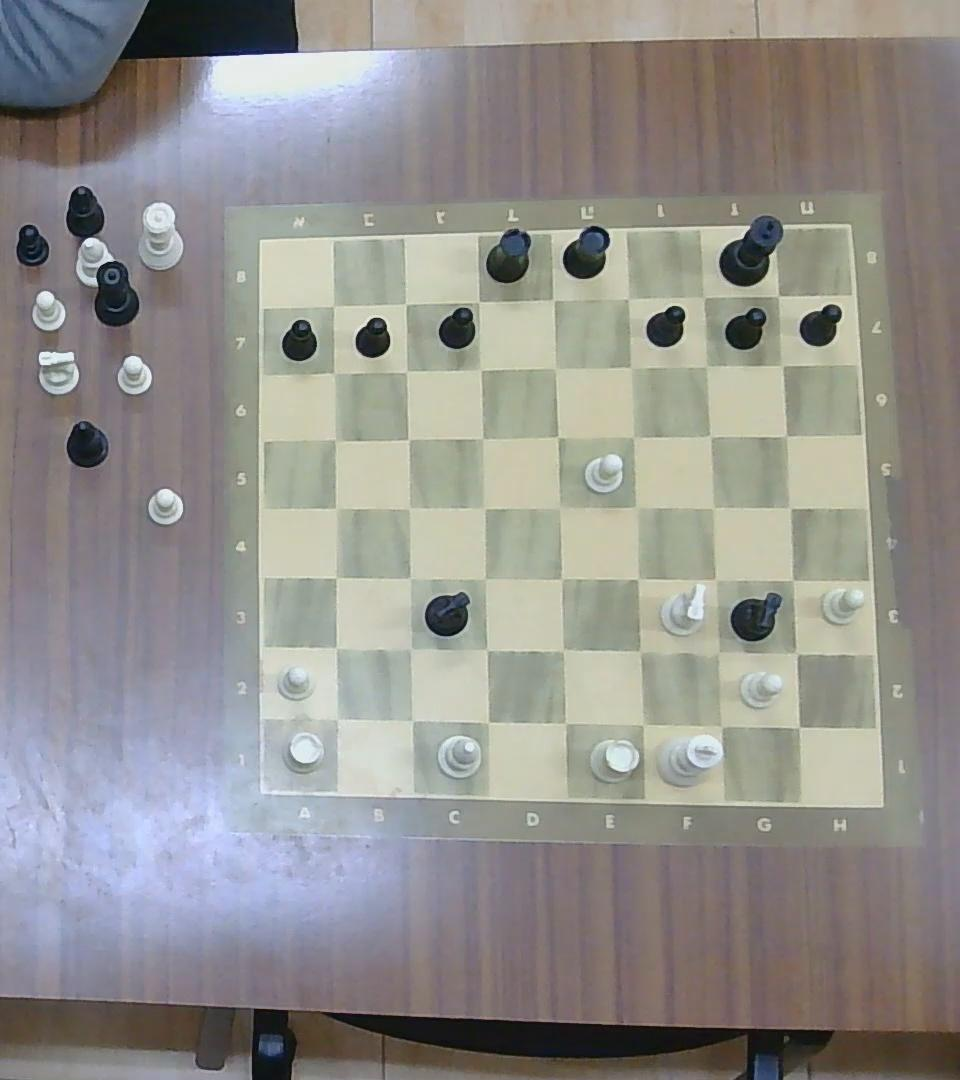xcorner: (702, 707, 737, 740), (701, 636, 734, 669), (781, 711, 815, 743), (626, 707, 658, 740), (548, 705, 579, 739), (624, 635, 656, 667), (547, 633, 578, 665), (471, 704, 502, 736), (780, 637, 812, 668), (320, 701, 351, 732), (622, 563, 652, 594), (470, 634, 501, 664), (395, 705, 425, 735), (394, 634, 424, 664), (698, 491, 728, 521), (548, 563, 577, 594), (700, 564, 730, 593), (321, 562, 350, 591), (622, 491, 651, 520), (321, 633, 350, 662), (545, 493, 573, 522), (470, 564, 499, 592), (467, 422, 495, 451), (777, 566, 806, 594), (543, 421, 572, 449), (619, 421, 648, 449), (616, 352, 645, 380), (470, 492, 498, 520), (393, 425, 422, 452), (776, 492, 805, 519), (395, 494, 423, 521), (395, 563, 423, 590), (322, 494, 350, 521), (696, 422, 723, 448), (542, 353, 569, 379), (692, 353, 720, 378), (320, 360, 348, 385), (615, 285, 641, 311), (322, 426, 348, 451), (540, 286, 566, 311), (467, 355, 492, 380), (393, 357, 419, 381), (393, 291, 418, 315), (773, 423, 798, 447), (466, 288, 491, 312), (691, 285, 715, 308), (770, 352, 793, 376), (767, 284, 790, 306), (322, 295, 345, 315)
